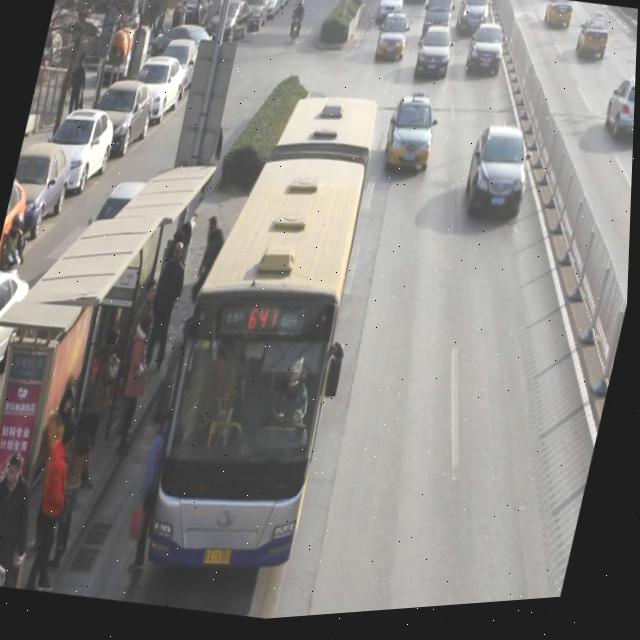car: (459, 125, 540, 236), (382, 94, 444, 185), (413, 28, 459, 94), (602, 82, 637, 159), (466, 28, 509, 86), (375, 11, 414, 72), (575, 17, 615, 71), (452, 0, 492, 45), (542, 5, 576, 40), (375, 0, 408, 36), (403, 0, 430, 8)
truck: (419, 0, 457, 48)
van: (142, 77, 396, 585)
